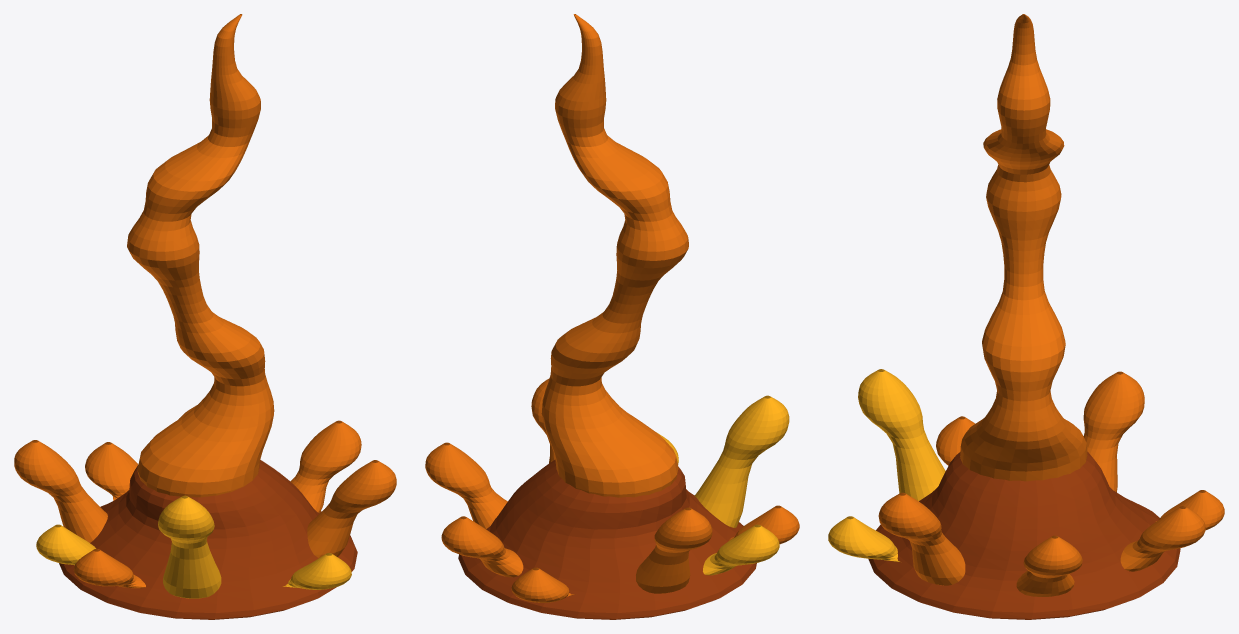
3 renders of one model, left to right at view 1: azimuth 30°, elevation 25°; view 2: azimuth 150°, elevation 25°; view 3: azimuth 270°, elevation 25°, orthographic. The views are drawn at different scales.
Bounding box in the file's own units: 2.86 × 4.46 × 2.83.
Materials: 11 (11 with a texture image).
